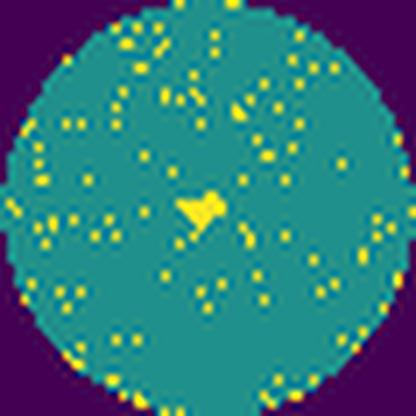Center: (176, 190, 228, 234)
